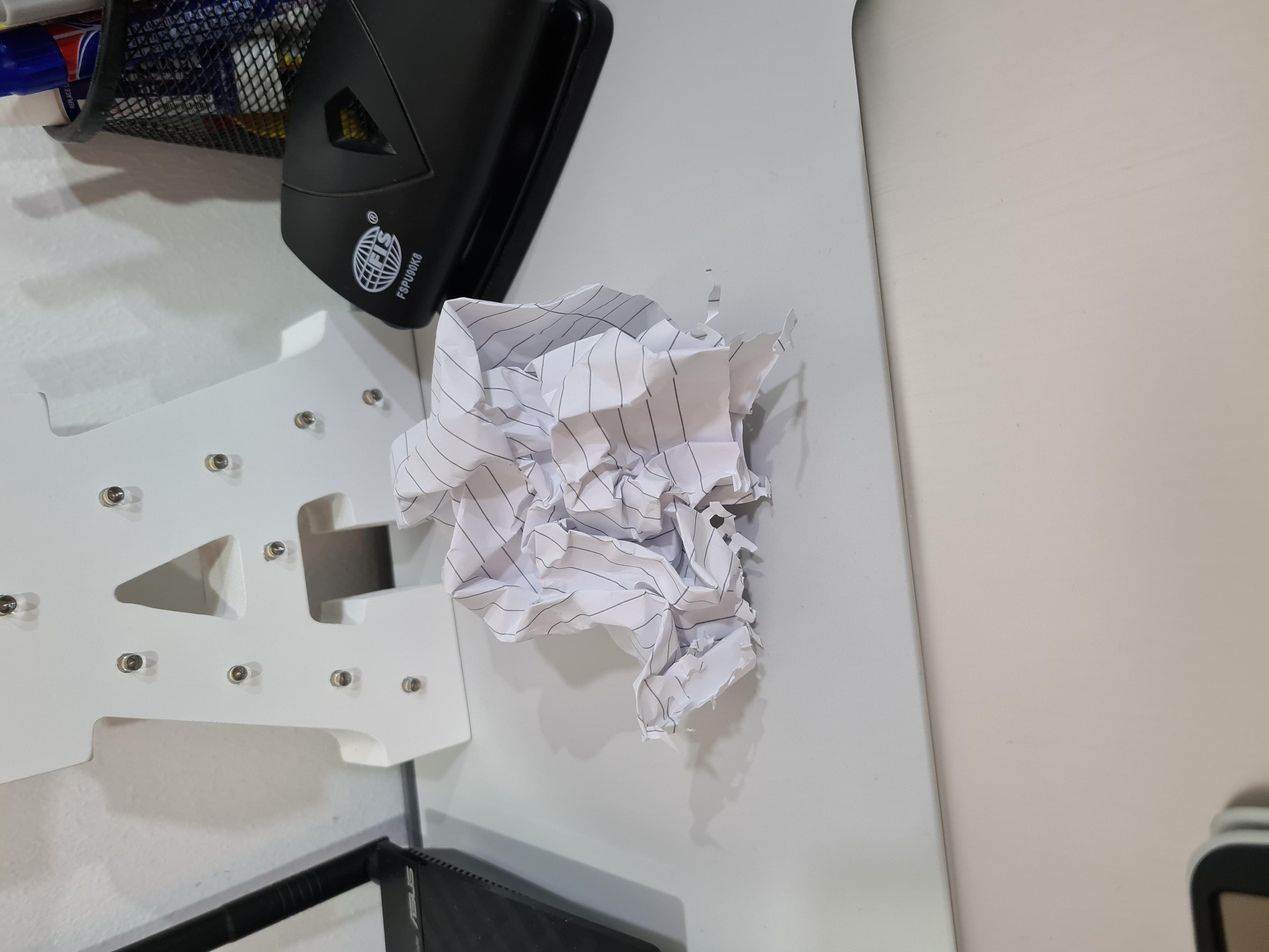paper: (332, 289, 879, 579)
